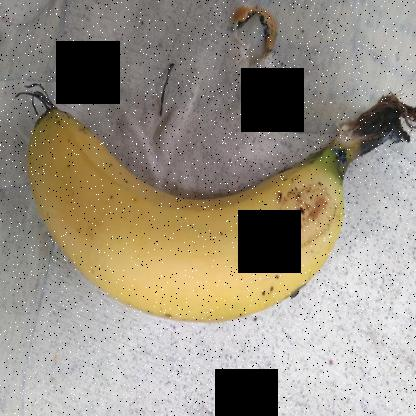freshripe: (21, 96, 347, 330)
